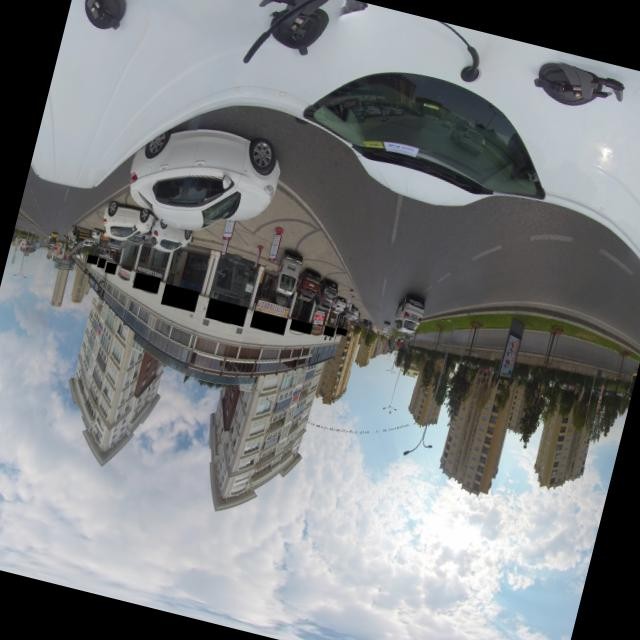SignStore: (205, 297, 247, 322), (161, 282, 197, 308), (249, 309, 286, 330), (133, 271, 159, 292), (288, 317, 311, 332), (104, 260, 116, 272), (310, 323, 322, 333), (323, 325, 334, 335), (86, 253, 97, 263), (96, 257, 105, 267), (334, 326, 346, 333)
